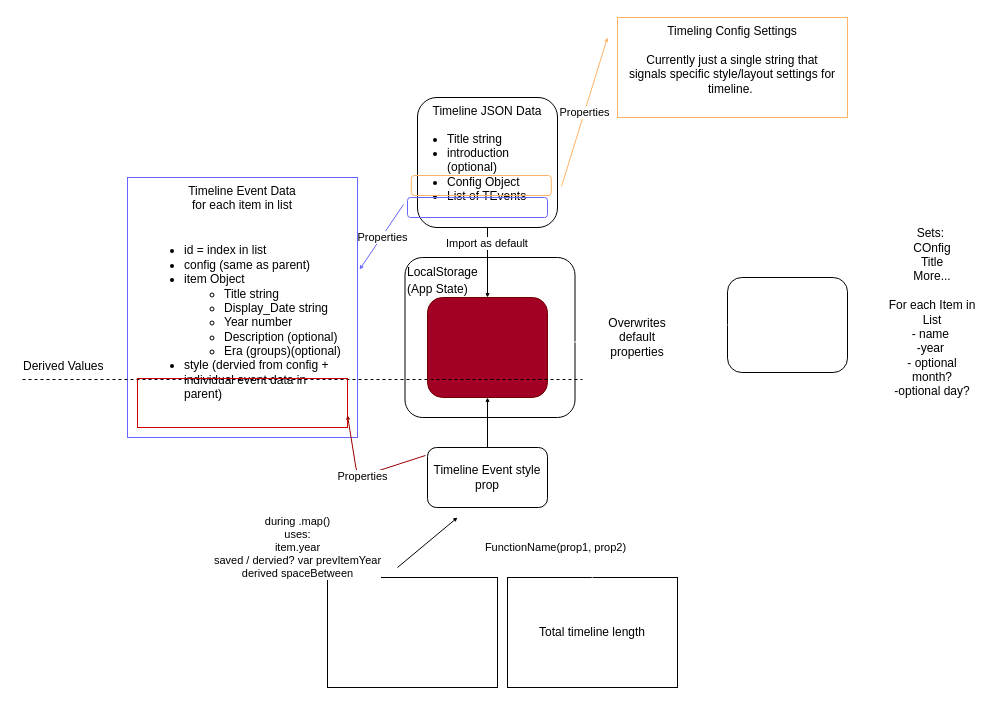
Image size: 994x705. Some labels were removed from this diagram. The centre of each missing label's shape, as x and y in pixels:
sets PaddingLeft or PaddingTop (depending on config: [412,632]
Timeline Properties: [487,347]
TO DO BUILDER <Drawer> <Form onSubmit> </Drawer>: [787,324]
